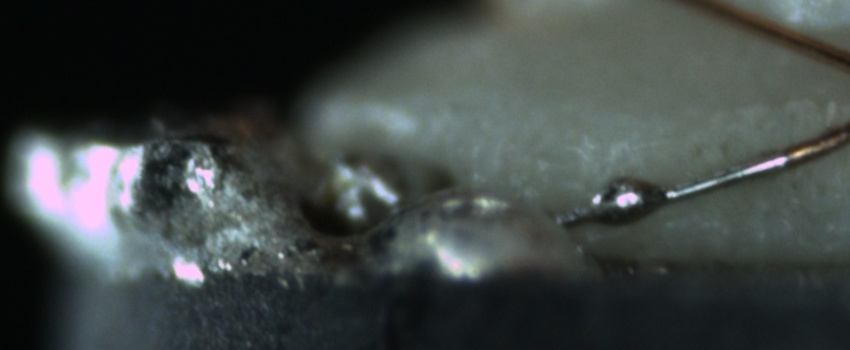TB: (593, 178, 668, 229)
TS: (549, 152, 789, 225)
TTCW: (555, 133, 834, 225)
